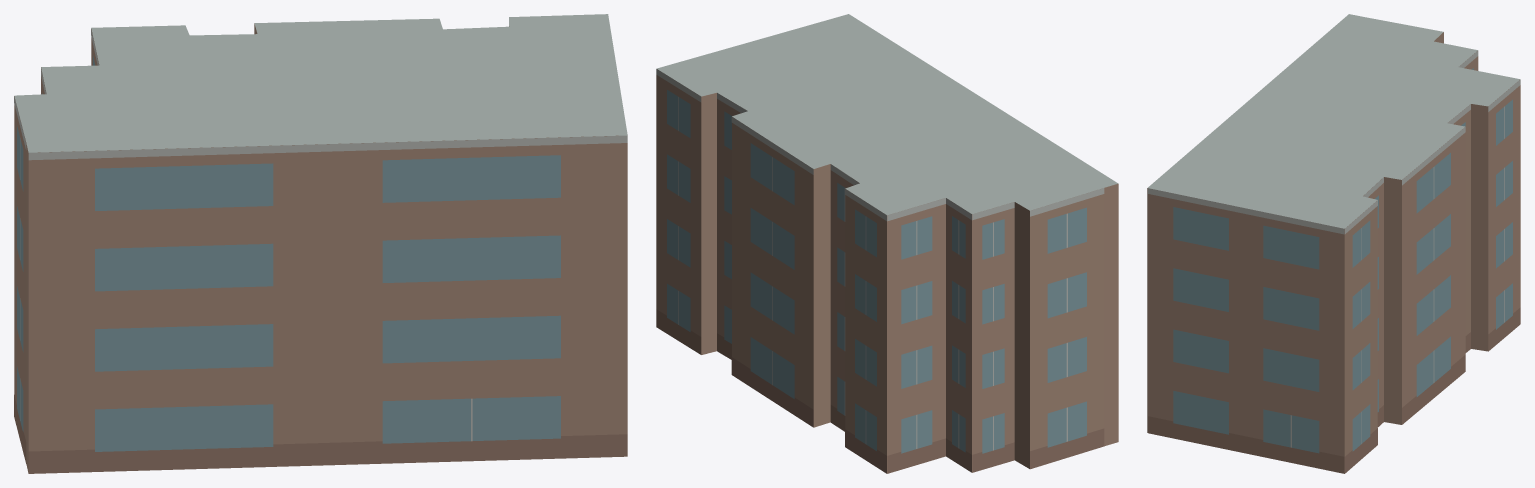
File: survey-upis-32525670.glb
3 renders of one model, left to right at view 1: azimuth 30°, elevation 25°; view 2: azimuth 150°, elevation 25°; view 3: azimuth 270°, elevation 25°, orthographic. The views are drawn at different scales.
Visible parts, largest first — view 1: survey-upis-32525670.tmp; view 2: survey-upis-32525670.tmp; view 3: survey-upis-32525670.tmp.
Boxes of the visible parts, <box> form: survey-upis-32525670.tmp: <box>14,14,627,473</box>; survey-upis-32525670.tmp: <box>656,14,1118,473</box>; survey-upis-32525670.tmp: <box>1147,14,1520,473</box>.
Bounding box in the file's own units: 19.56 × 10.4 × 14.36.
